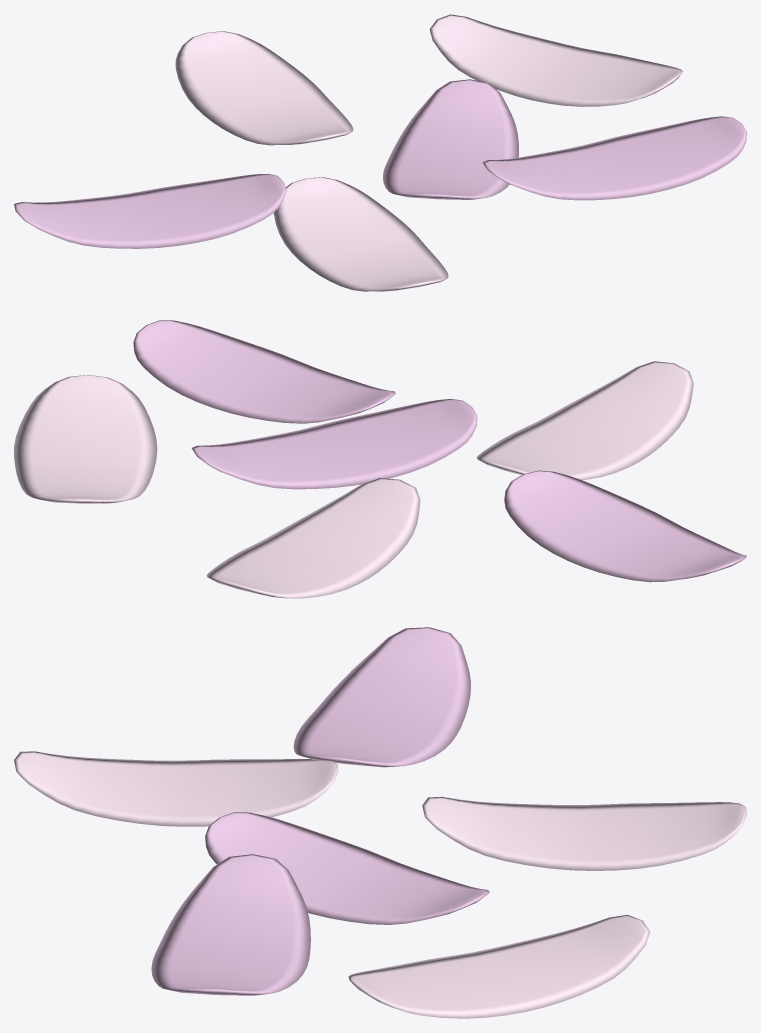
File: PinkPetals.fbx
3 renders of one model, top to bottom at view 1: azimuth 30°, elevation 25°; view 2: azimuth 150°, elevation 25°; view 3: azimuth 270°, elevation 25°, orthographic. The views are drawn at different scales.
Visible parts, largest first — view 1: Petel.014, Petel.012, Petel.017, Petel.013, Petel.016, Petel.015; view 2: Petel.016, Petel.015, Petel.012, Petel.014, Petel.017, Petel.013; view 3: Petel.017, Petel.013, Petel.014, Petel.012, Petel.016, Petel.015.
Part boxes in pixels (x1=…): Petel.014: x1=482, y1=116, x2=746, y2=200; Petel.012: x1=14, y1=174, x2=286, y2=248; Petel.017: x1=175, y1=31, x2=353, y2=145; Petel.013: x1=273, y1=177, x2=448, y2=291; Petel.016: x1=429, y1=14, x2=682, y2=106; Petel.015: x1=383, y1=79, x2=518, y2=199; Petel.016: x1=14, y1=375, x2=157, y2=503; Petel.015: x1=191, y1=399, x2=477, y2=489; Petel.012: x1=504, y1=470, x2=746, y2=582; Petel.014: x1=133, y1=320, x2=395, y2=423; Petel.017: x1=206, y1=478, x2=420, y2=598; Petel.013: x1=476, y1=361, x2=693, y2=480; Petel.017: x1=422, y1=796, x2=746, y2=870; Petel.013: x1=14, y1=751, x2=338, y2=826; Petel.014: x1=151, y1=854, x2=310, y2=995; Petel.012: x1=293, y1=627, x2=470, y2=767; Petel.016: x1=348, y1=914, x2=650, y2=1018; Petel.015: x1=205, y1=812, x2=489, y2=924.
Bounding box in the file's own units: 63.17 × 2.47 × 52.17.
